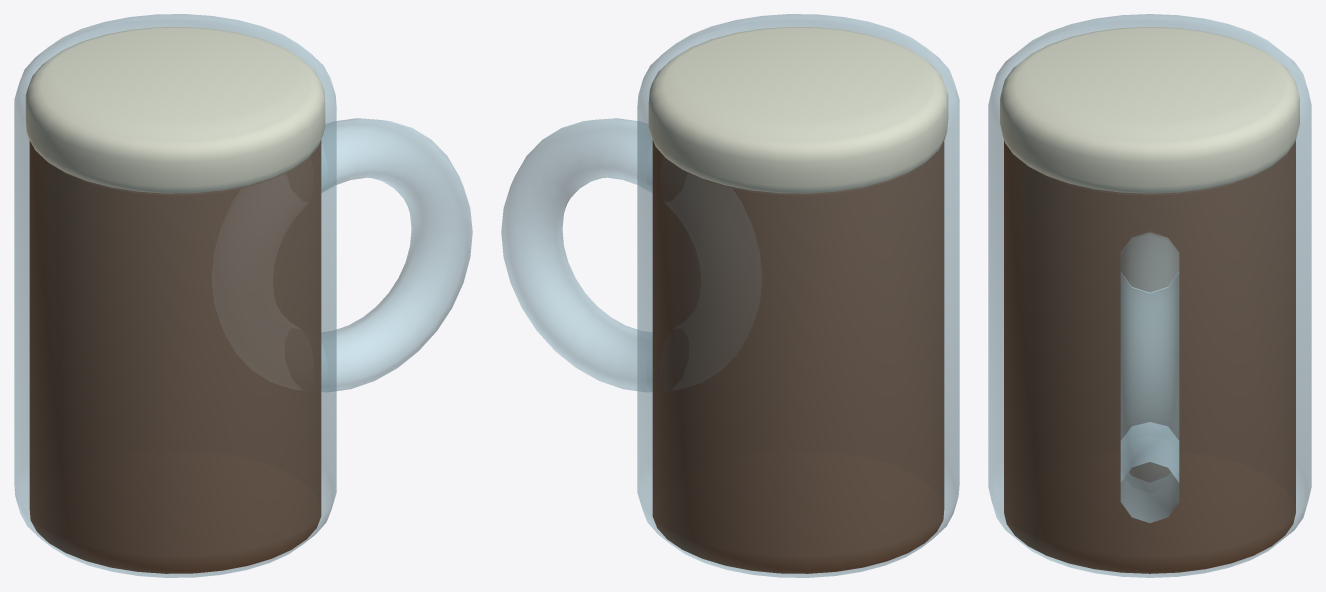
Rendered from kvass_mug.glb.
3 views of the same model, side by side, from view 1: azimuth 30°, elevation 25°; view 2: azimuth 150°, elevation 25°; view 3: azimuth 270°, elevation 25° (orthographic).
Visible parts, largest first — view 1: kvass_mug; view 2: kvass_mug; view 3: kvass_mug.
Part boxes in pixels (x1,y1,x2,y2): kvass_mug: (14, 14, 472, 577); kvass_mug: (501, 14, 959, 577); kvass_mug: (988, 14, 1311, 577).
Bounding box in the file's own units: 0.13 × 0.13 × 0.084.
